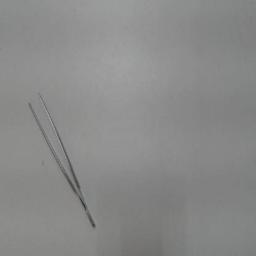Gillies Toothed Dissector: (24, 79, 102, 235)
